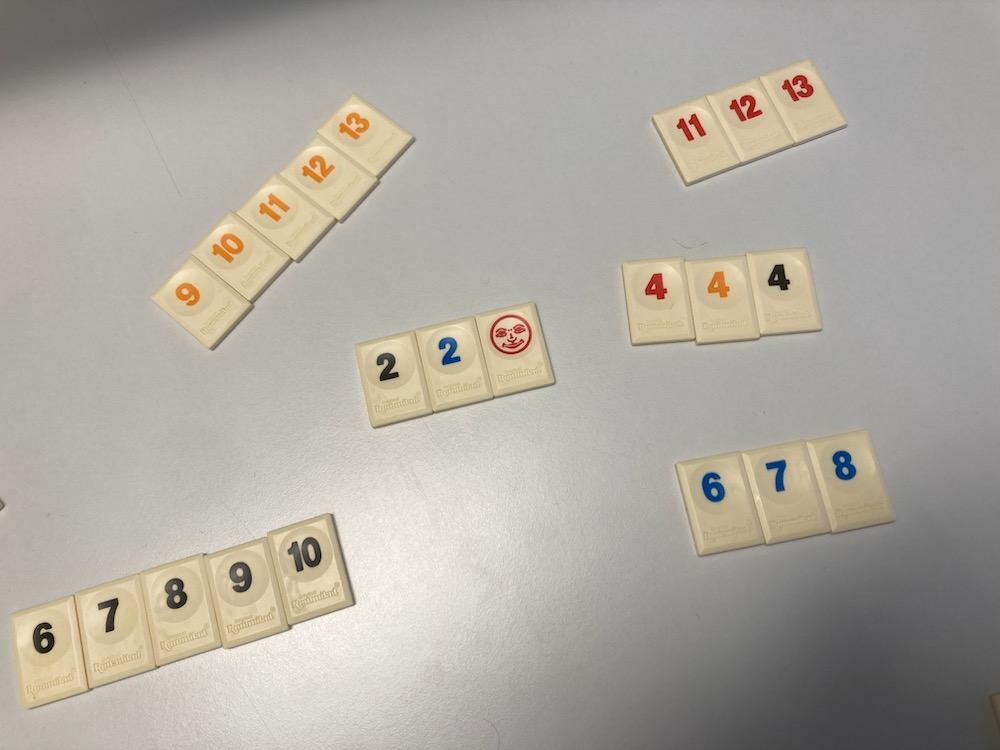black_10: (268, 514, 354, 625)
black_2: (356, 332, 432, 428)
black_4: (746, 249, 822, 336)
black_6: (10, 596, 88, 709)
black_7: (78, 576, 154, 687)
black_8: (141, 555, 221, 666)
black_9: (205, 539, 287, 648)
blue_2: (417, 318, 492, 412)
blue_6: (677, 453, 764, 555)
blue_7: (742, 441, 830, 545)
blue_8: (808, 430, 895, 533)
joker: (477, 303, 555, 396)
orange_10: (191, 213, 289, 301)
orange_11: (238, 174, 334, 260)
orange_12: (281, 137, 377, 221)
orange_13: (318, 94, 412, 176)
orange_4: (687, 256, 760, 344)
orange_9: (152, 258, 252, 348)
red_11: (654, 98, 740, 186)
red_12: (707, 78, 793, 164)
red_13: (760, 59, 846, 143)
red_4: (624, 258, 695, 343)
